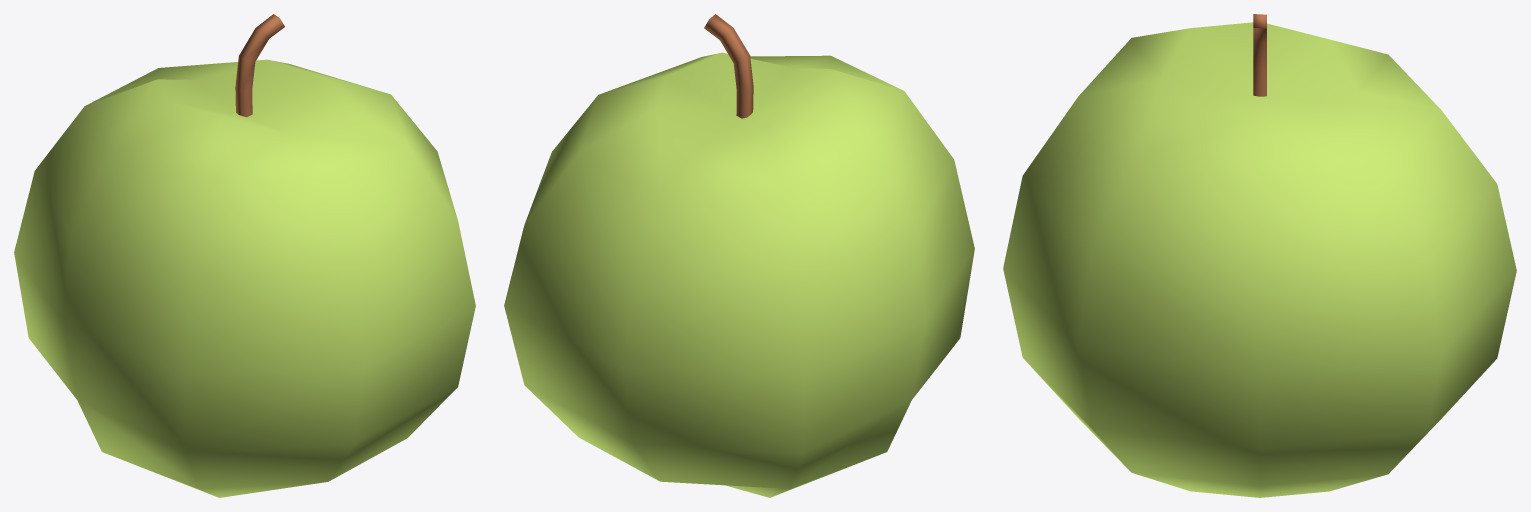
The model's file is green-apple.glb.
3 views of the same model, side by side, from view 1: azimuth 30°, elevation 25°; view 2: azimuth 150°, elevation 25°; view 3: azimuth 270°, elevation 25° (orthographic). The views are drawn at different scales.
Parts seen in each view (by area): view 1: Apple3.002; view 2: Apple3.002; view 3: Apple3.002.
Part boxes in pixels (box(x1,y1,x2,y2)): Apple3.002: box(14, 14, 475, 497); Apple3.002: box(504, 14, 974, 497); Apple3.002: box(1003, 14, 1516, 497).
Size of the model in its own units: 0.092 by 0.1018 by 0.1018.
